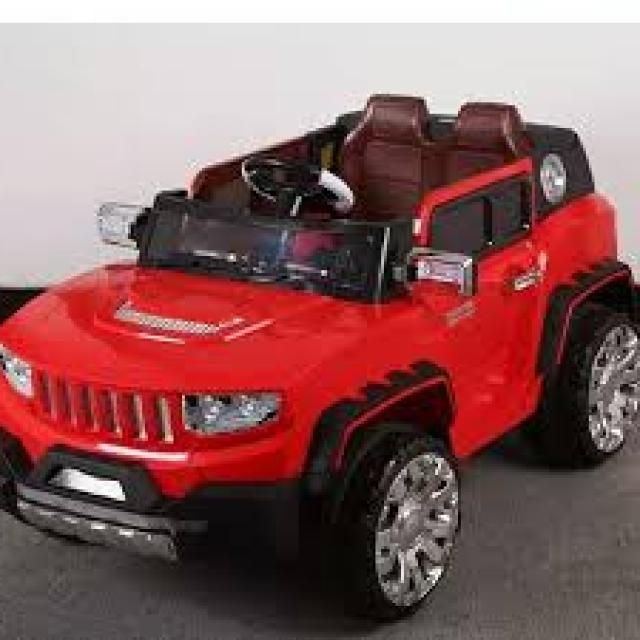Car: (3, 91, 640, 620)
